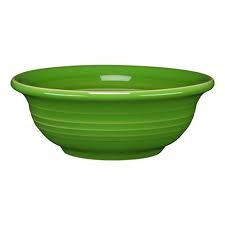bowl: (9, 60, 217, 164)
